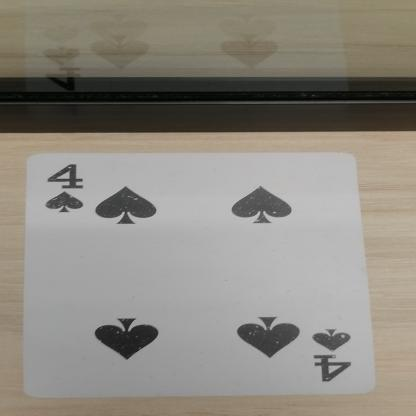4S: (28, 152, 108, 224), (306, 315, 359, 393)
